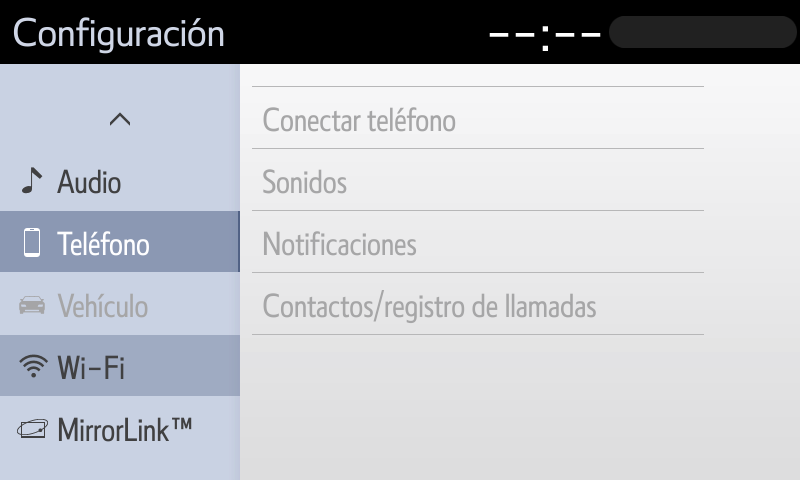touchPart: (250, 202, 709, 279), (253, 142, 709, 219), (251, 77, 710, 153), (245, 269, 716, 341), (1, 331, 243, 403), (13, 411, 209, 449), (26, 158, 127, 198), (90, 106, 145, 140)
untouchPart: (1, 206, 247, 276), (475, 13, 796, 57), (12, 12, 234, 58), (13, 288, 148, 326)
